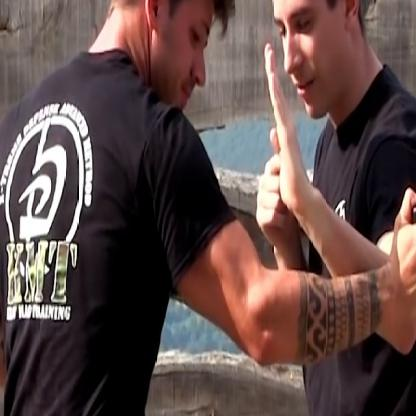knife: (391, 181, 415, 415)
